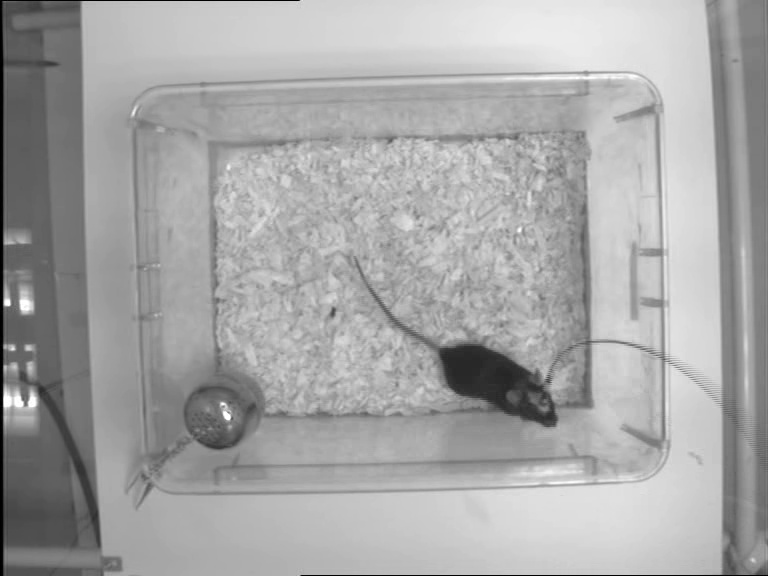mice: (355, 254, 558, 430)
